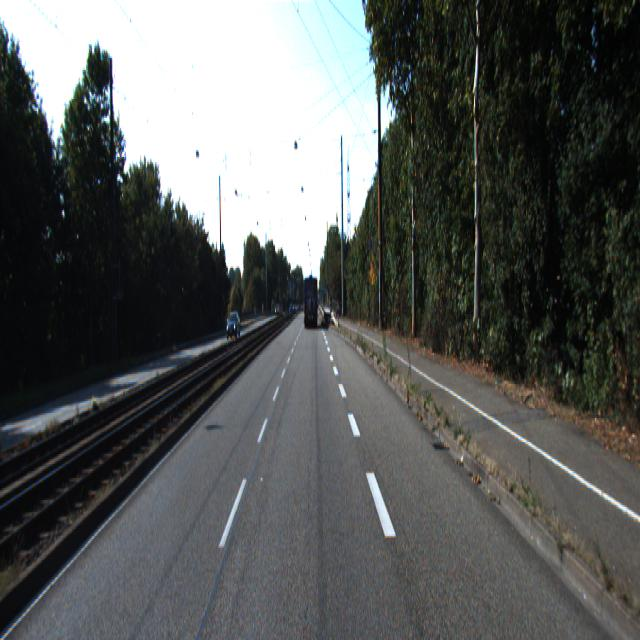Car: (304, 276, 318, 328), (226, 313, 241, 341)
